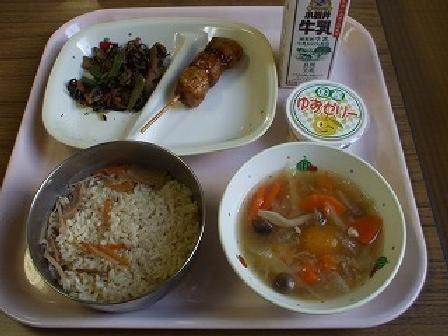Cup desserts: (271, 75, 373, 153)
Milk: (276, 2, 352, 89)
Mixed rice: (30, 146, 207, 299)
salad with sauce: (61, 28, 158, 120)
snacks: (169, 25, 255, 117)
vegetable soup: (229, 146, 398, 298)
